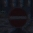No entry: (6, 6, 28, 28)
